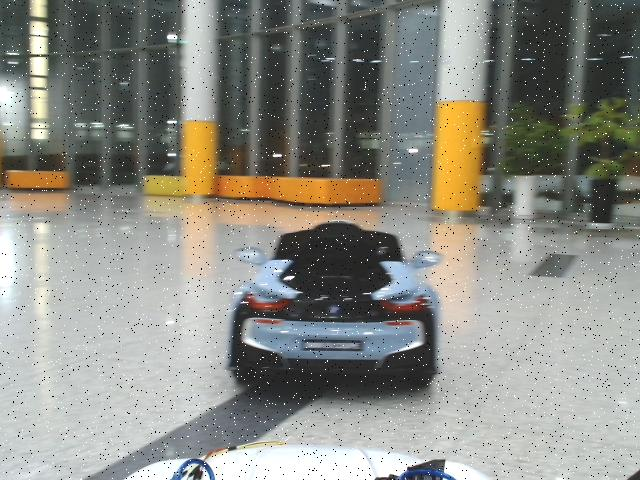car: (228, 221, 444, 389)
